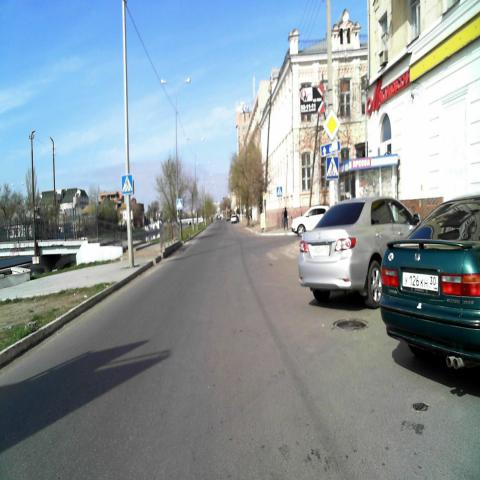6_15_1: (320, 141, 340, 156)
